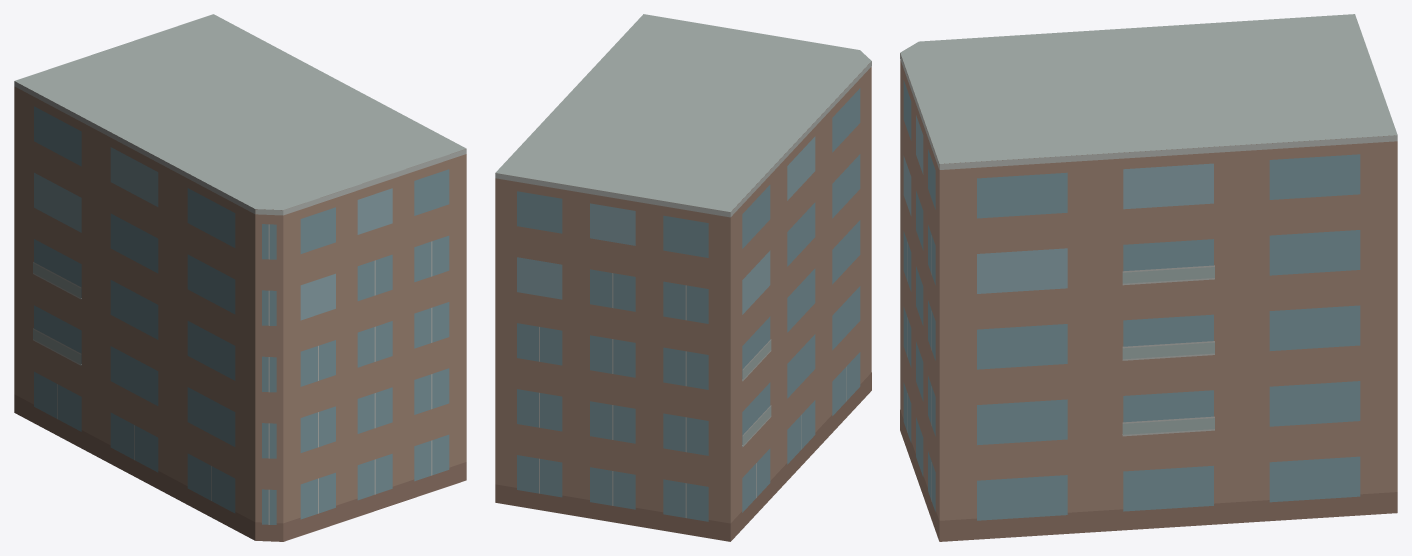
The model's file is survey-upis-32960922.glb.
3 views of the same model, side by side, from view 1: azimuth 30°, elevation 25°; view 2: azimuth 150°, elevation 25°; view 3: azimuth 270°, elevation 25° (orthographic). The views are drawn at different scales.
Parts seen in each view (by area): view 1: survey-upis-32960922.tmp; view 2: survey-upis-32960922.tmp; view 3: survey-upis-32960922.tmp.
Part boxes in pixels (x1=…): survey-upis-32960922.tmp: x1=14, y1=14, x2=466, y2=541; survey-upis-32960922.tmp: x1=495, y1=14, x2=871, y2=541; survey-upis-32960922.tmp: x1=900, y1=14, x2=1397, y2=541.
Bounding box in the file's own units: 12.96 × 15.2 × 18.15.
